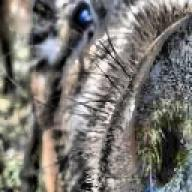boar: (34, 0, 192, 192), (0, 0, 60, 94)
